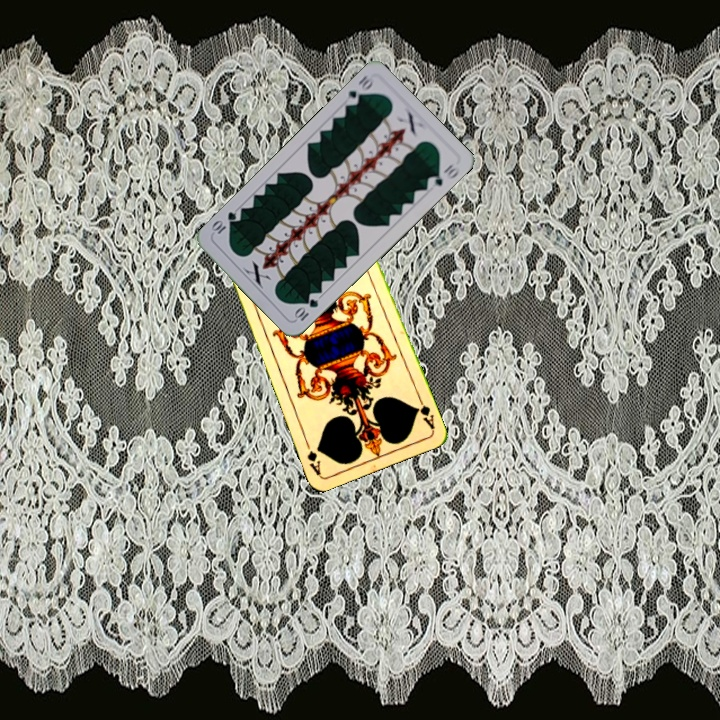G10: (341, 71, 376, 109), (290, 295, 321, 324)
GA: (412, 393, 438, 432)
